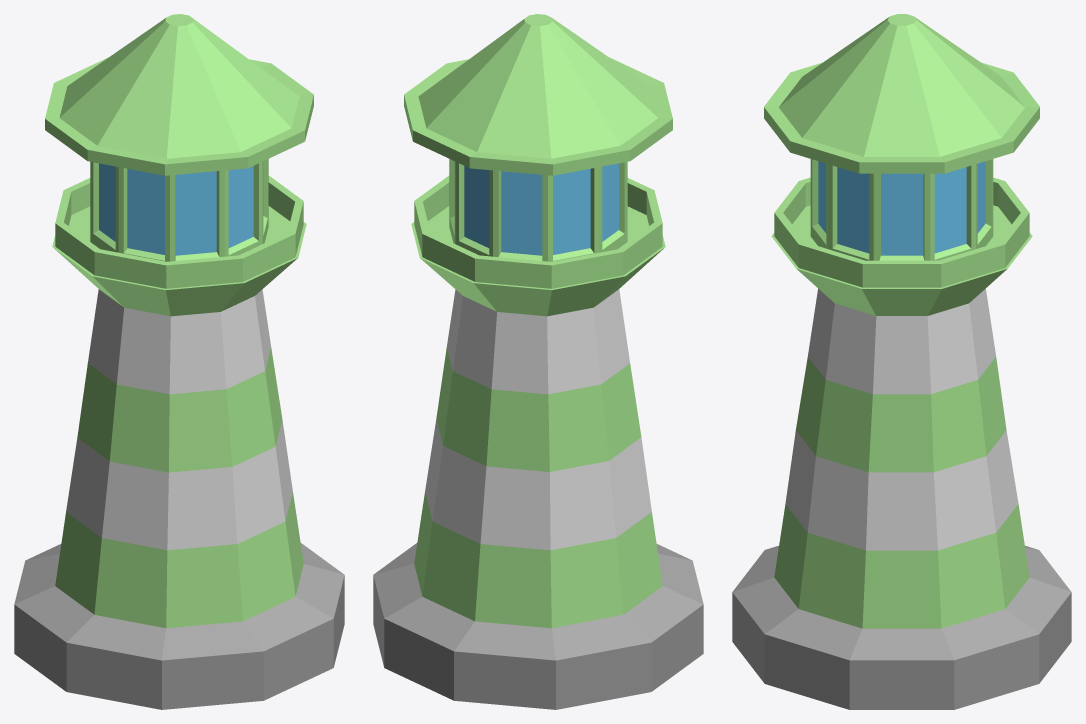
The model's file is Farol.fbx.
3 renders of one model, left to right at view 1: azimuth 30°, elevation 25°; view 2: azimuth 150°, elevation 25°; view 3: azimuth 270°, elevation 25°, orthographic.
Parts seen in each view (by area): view 1: Cylinder; view 2: Cylinder; view 3: Cylinder.
Part boxes in pixels (<box>): Cylinder: <box>14,14,344,709</box>; Cylinder: <box>373,14,703,709</box>; Cylinder: <box>732,14,1071,709</box>.
Bounding box in the file's own units: 1292 × 2748 × 1359.
